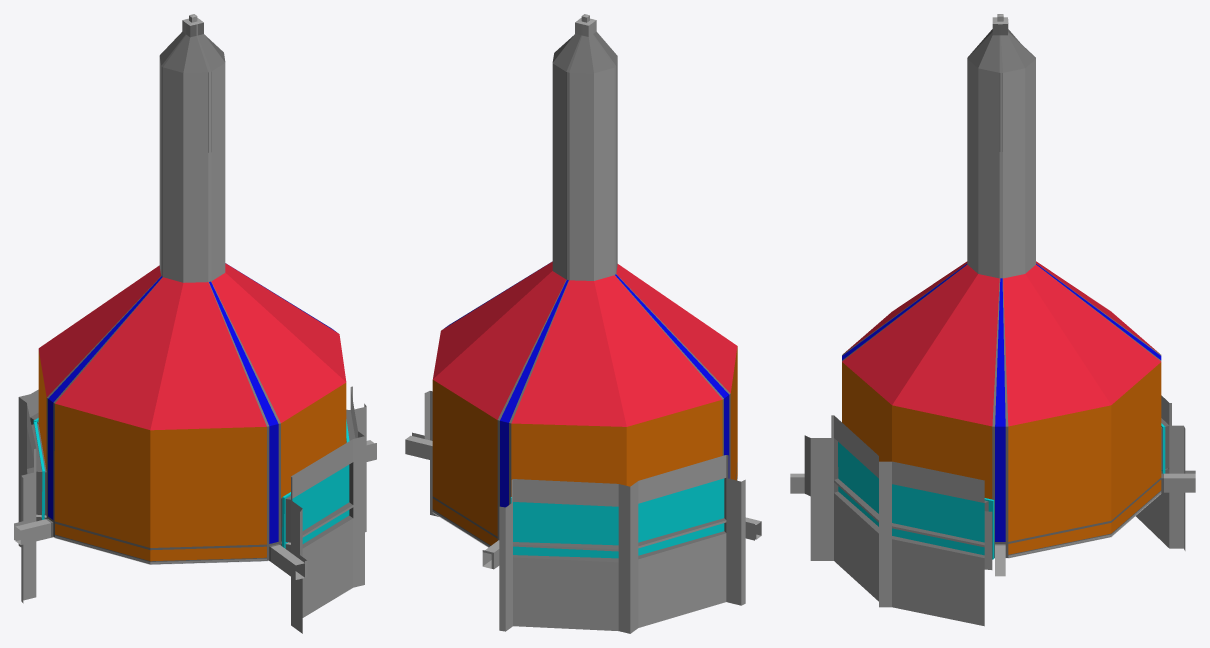
Rendered from uvMappedHubRoomTextured.fbx.
The picture shows the model from 3 angles, left to right: view 1: azimuth 30°, elevation 25°; view 2: azimuth 150°, elevation 25°; view 3: azimuth 270°, elevation 25°; orthographic projection. The views are drawn at different scales.
Parts seen in each view (by area): view 1: DaraghsHub, Window; view 2: DaraghsHub, Window3, Window2; view 3: DaraghsHub, Window1, Window.
Boxes of the visible parts, left/top/right/bottom form: DaraghsHub: left=14, top=14, right=376, bottom=633; Window: left=282, top=465, right=349, bottom=548; DaraghsHub: left=405, top=14, right=761, bottom=633; Window3: left=510, top=497, right=618, bottom=558; Window2: left=638, top=478, right=724, bottom=555; DaraghsHub: left=790, top=14, right=1195, bottom=626; Window1: left=892, top=484, right=994, bottom=559; Window: left=838, top=442, right=878, bottom=526.
Size of the model in its own units: 152 by 226 by 154.
